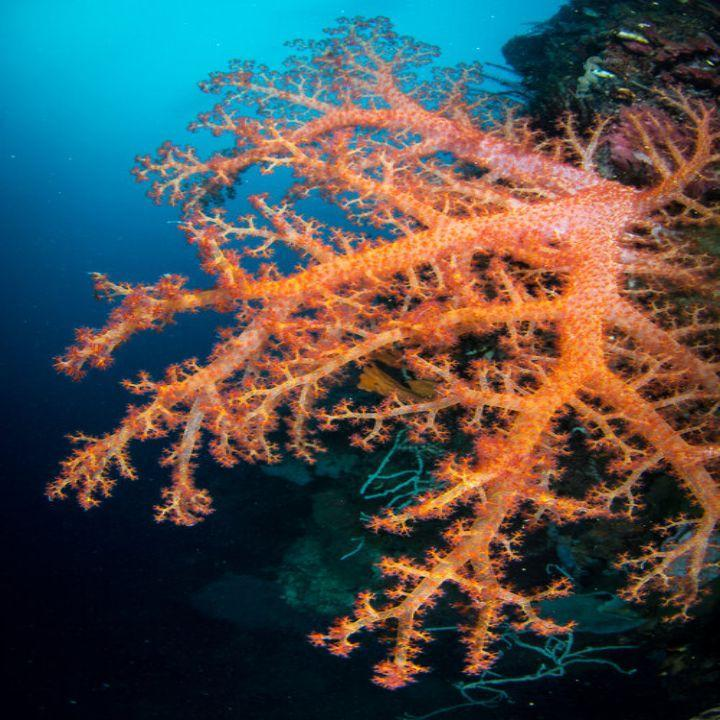Healthy Coral: (58, 75, 682, 643)
